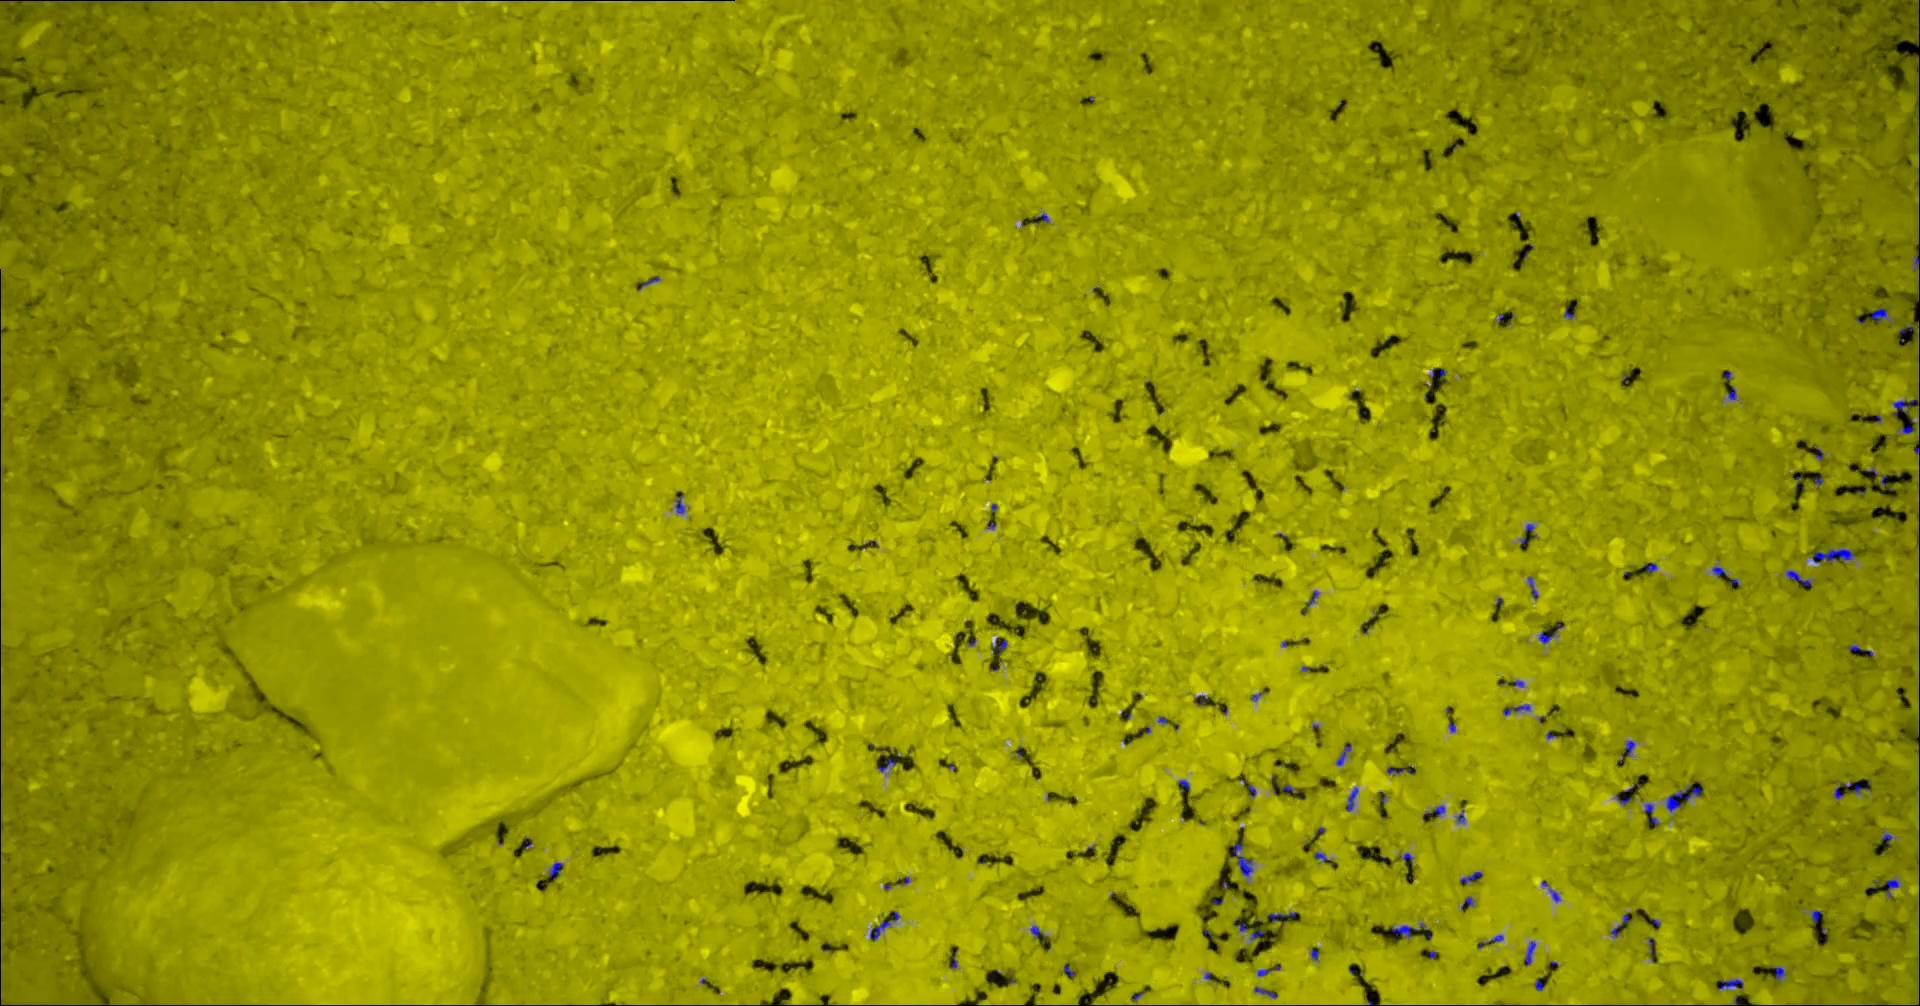ant: (1665, 781, 1702, 812), (869, 911, 899, 940), (1230, 840, 1252, 876), (1832, 781, 1870, 798), (1812, 547, 1855, 561), (1538, 622, 1563, 643), (1477, 934, 1503, 948), (1870, 307, 1895, 323), (1785, 570, 1810, 586), (1390, 925, 1417, 937), (1335, 744, 1351, 765), (1502, 704, 1530, 715), (1269, 911, 1297, 922), (1030, 925, 1048, 942), (1891, 399, 1909, 415), (1253, 986, 1276, 998), (1524, 941, 1535, 965), (1718, 978, 1742, 989), (1884, 879, 1898, 898), (1346, 788, 1357, 810), (990, 638, 1006, 654), (1769, 965, 1785, 981), (1459, 871, 1481, 883), (877, 758, 897, 771), (549, 862, 563, 879), (1423, 805, 1445, 815), (1387, 766, 1415, 774), (676, 492, 684, 513), (1177, 779, 1189, 793), (1624, 741, 1634, 754), (71, 0, 124, 1)
